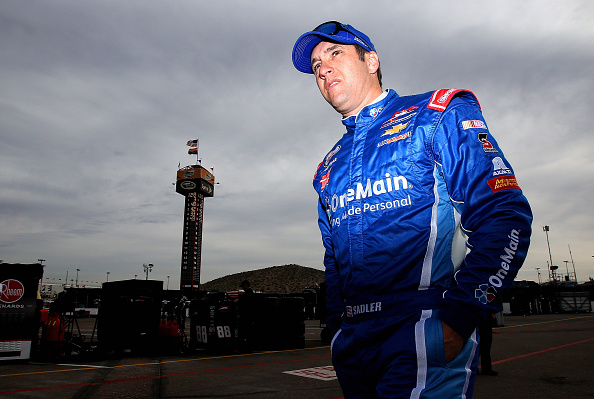em pe: (273, 7, 519, 399)
